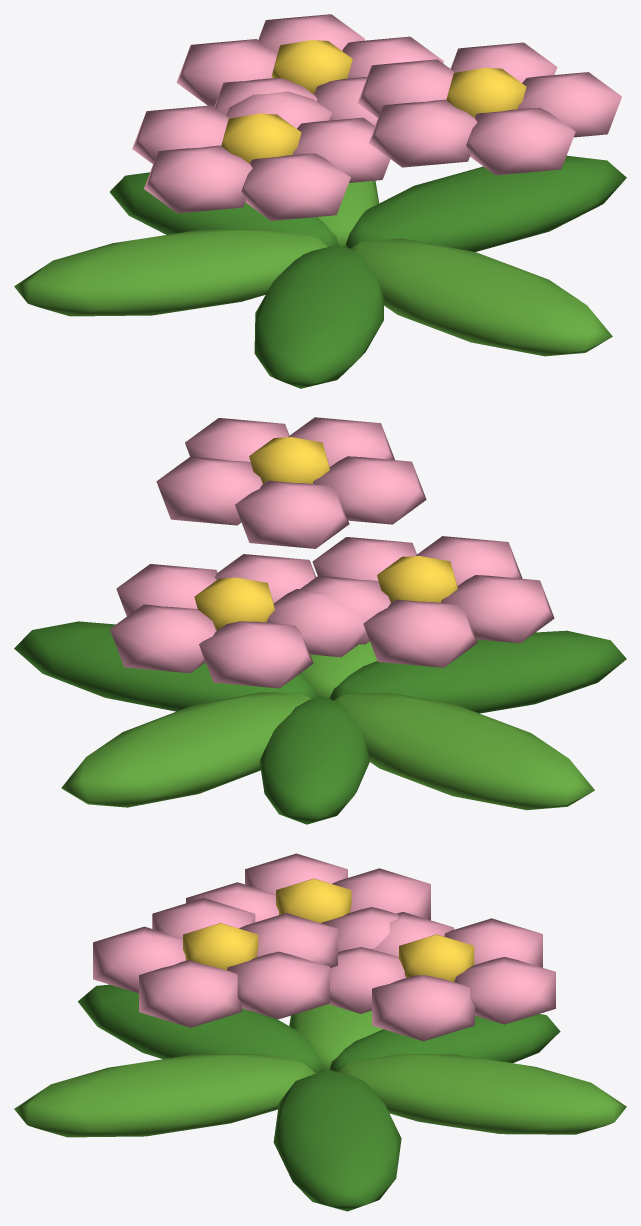
The model's file is FlowersPink.fbx.
3 views of the same model, one above another, from view 1: azimuth 30°, elevation 25°; view 2: azimuth 150°, elevation 25°; view 3: azimuth 270°, elevation 25° (orthographic). The views are drawn at different scales.
Visible parts, largest first — view 1: FlowersPink; view 2: FlowersPink; view 3: FlowersPink.
Boxes of the visible parts, bbox=[...] form: FlowersPink: bbox=[14, 14, 626, 388]; FlowersPink: bbox=[14, 417, 626, 824]; FlowersPink: bbox=[14, 853, 626, 1211].
Bounding box in the file's own units: 0.6661 × 0.2506 × 0.6458.
Materials: 1 (1 with a texture image).
